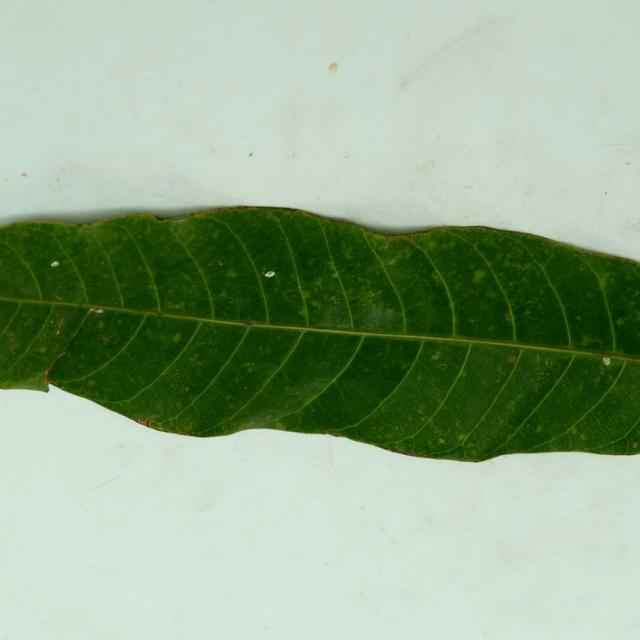Mango: (0, 208, 639, 461)
Powdery_Mildew: (360, 305, 388, 330), (532, 360, 558, 386), (471, 267, 493, 292), (165, 300, 186, 313), (207, 229, 224, 243), (431, 271, 446, 285), (238, 319, 258, 327), (273, 420, 288, 430), (580, 336, 593, 347), (343, 248, 355, 259), (196, 359, 210, 368), (505, 401, 517, 411), (330, 295, 342, 305), (262, 269, 275, 278), (172, 332, 182, 343), (504, 313, 514, 324), (296, 307, 306, 318), (7, 331, 17, 342), (226, 269, 238, 278), (95, 316, 105, 326), (300, 292, 311, 301), (386, 258, 397, 267), (328, 62, 339, 71), (512, 263, 525, 270), (431, 352, 441, 361), (242, 362, 253, 370), (616, 318, 626, 326), (507, 356, 517, 364), (458, 433, 467, 441), (38, 345, 47, 353), (402, 362, 410, 371), (380, 241, 390, 248), (570, 426, 578, 434), (176, 401, 184, 409), (602, 357, 610, 365), (182, 274, 191, 281), (332, 272, 340, 279), (536, 425, 543, 432), (438, 437, 445, 444), (524, 310, 531, 317), (580, 433, 587, 440), (418, 404, 425, 411), (88, 380, 96, 386), (224, 394, 232, 400), (575, 315, 582, 321), (636, 311, 640, 320), (184, 386, 190, 391)
